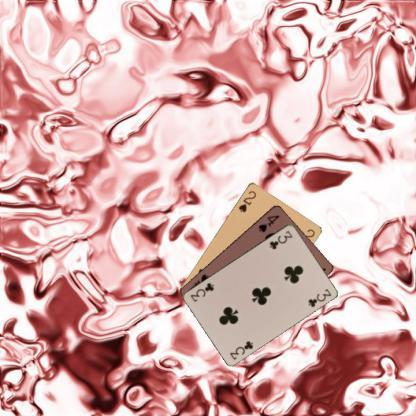2s: (235, 188, 258, 214)
3c: (266, 228, 294, 251), (227, 338, 254, 361)
4s: (256, 212, 281, 233)
